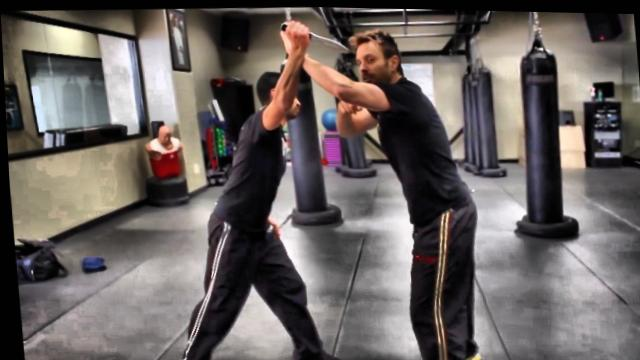knife: (279, 14, 353, 57)
